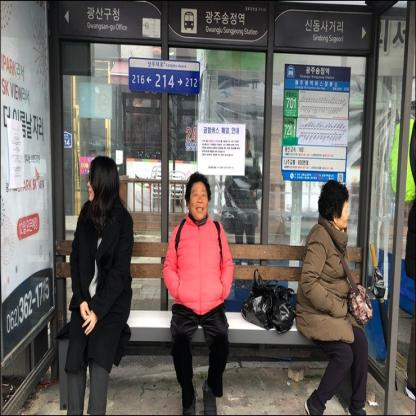person: (306, 174, 374, 416), (166, 172, 228, 416), (73, 144, 123, 416)
